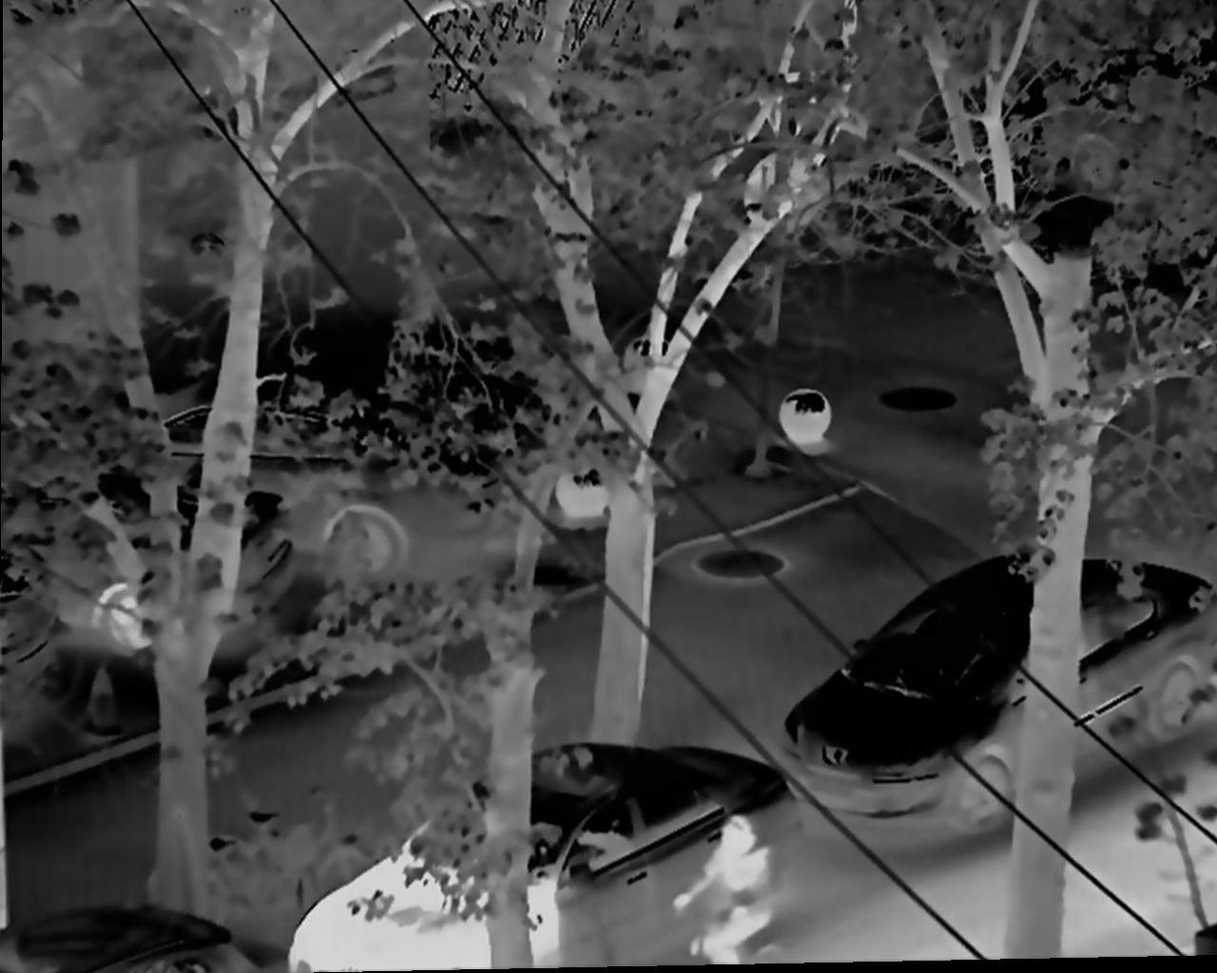person: (677, 808, 791, 964)
